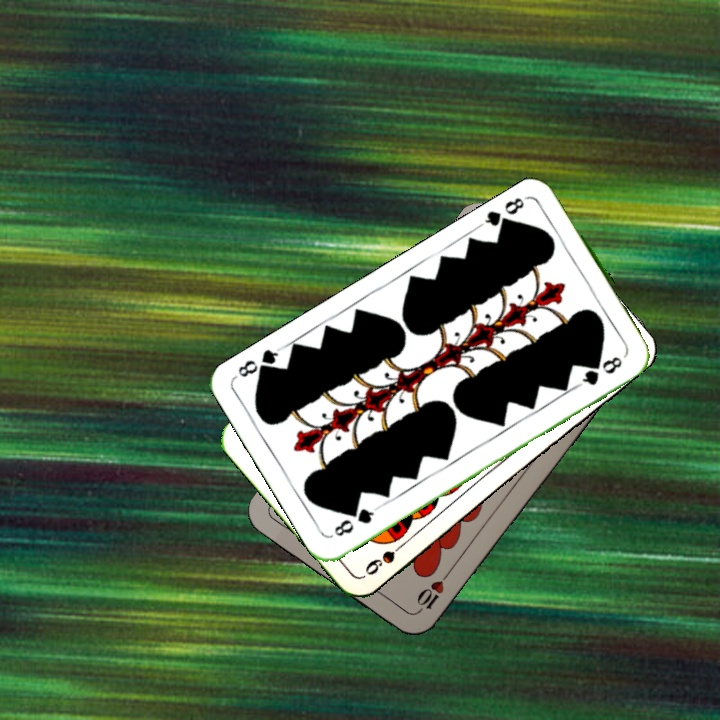G8: (478, 192, 532, 234), (329, 502, 381, 539)
H10: (413, 566, 454, 616)
S9: (361, 536, 411, 579)
